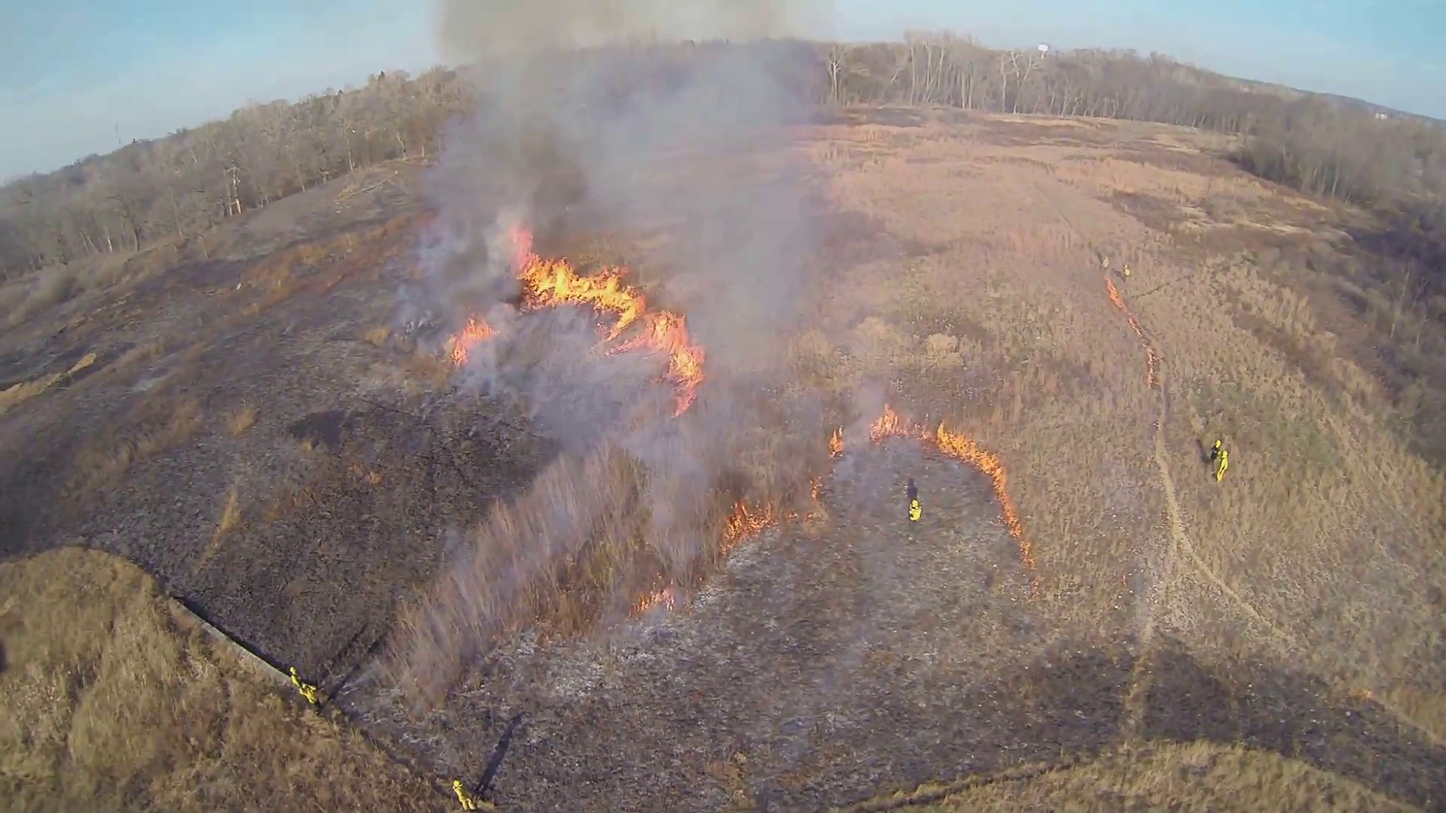forest_fire: (512, 227, 704, 415), (868, 404, 1034, 568), (1106, 276, 1160, 386), (450, 317, 496, 367), (728, 503, 766, 538)
